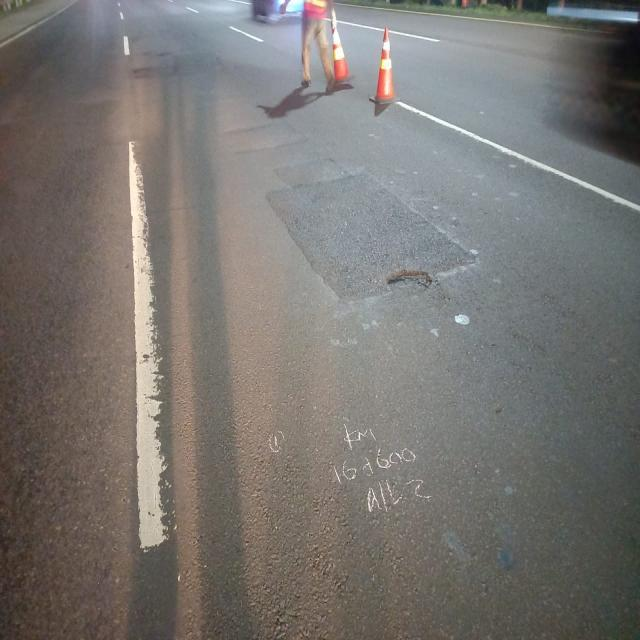Buraco: (381, 267, 442, 294)
